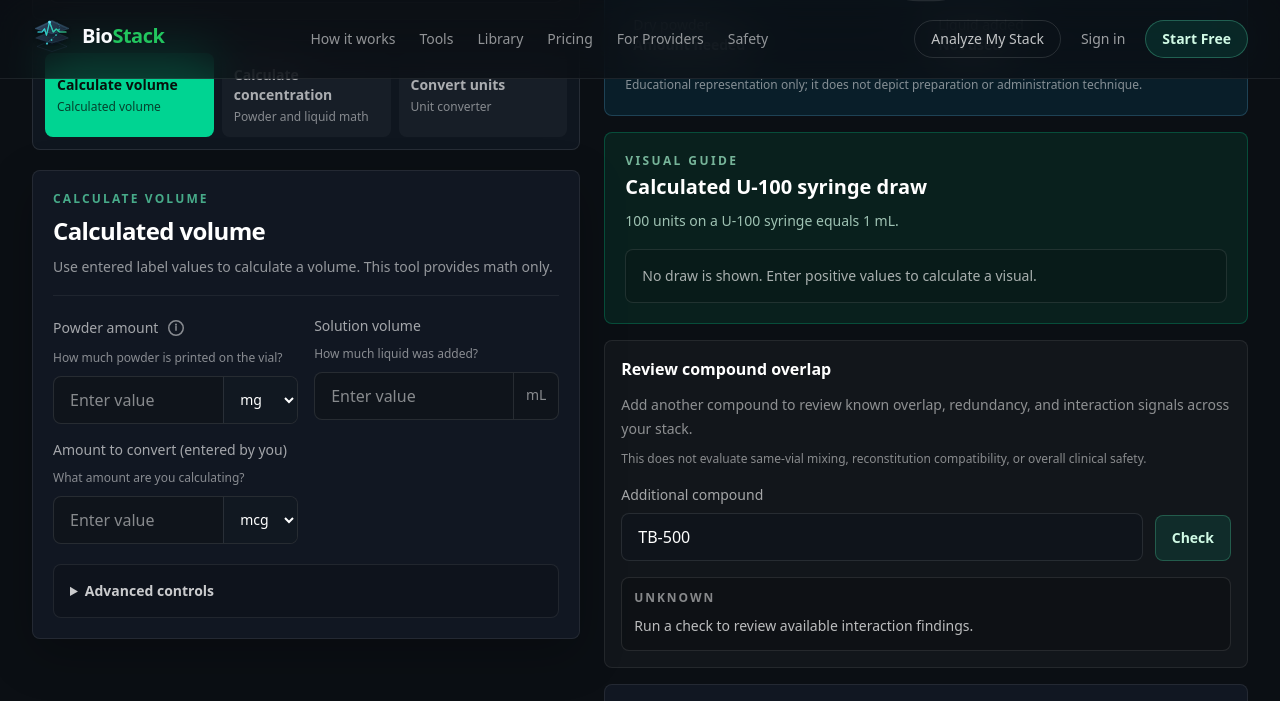
active /tools calculator visuals › keeps the vial, syringe, beginner help, and worded summary visible at 1280px
(page scrolled)
Step 1. Type "5" into the number field named "Powder amount" → (139, 400), box [54,376,223,422]
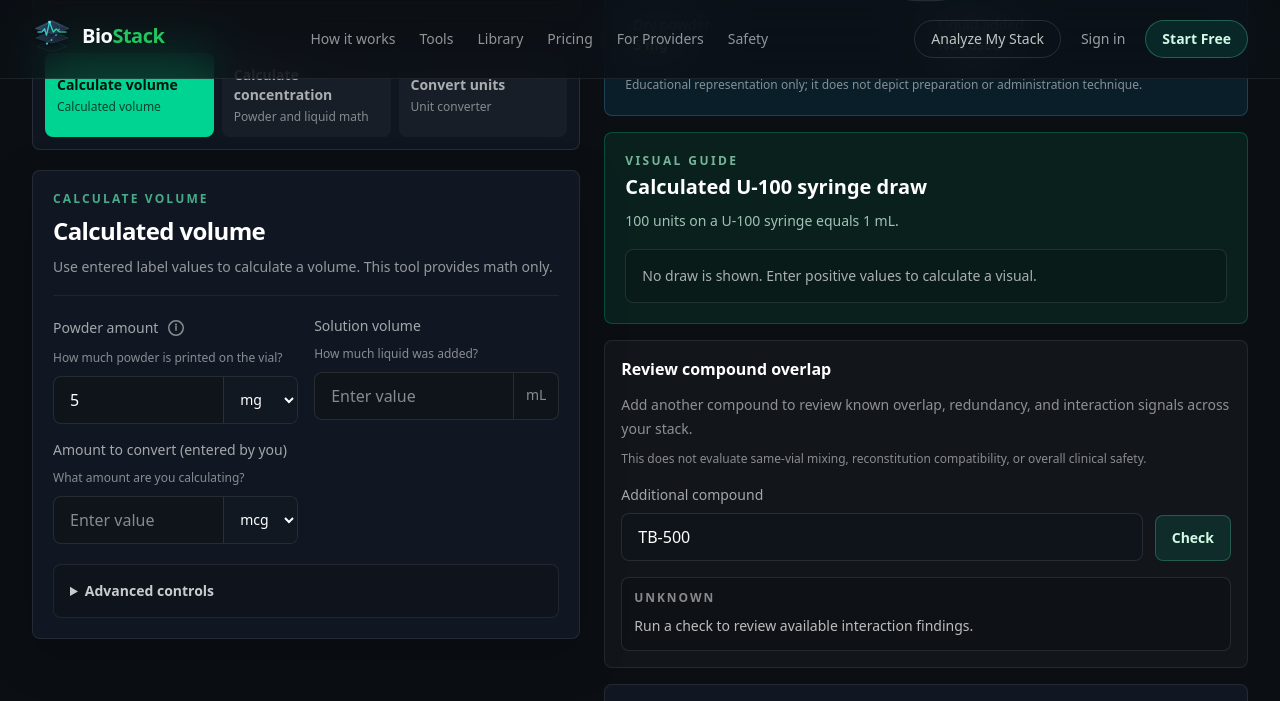
Step 2. Type "2" into the number field labelled "Solution volume How much liquid was added? mL" → (414, 396), box [315,372,513,418]
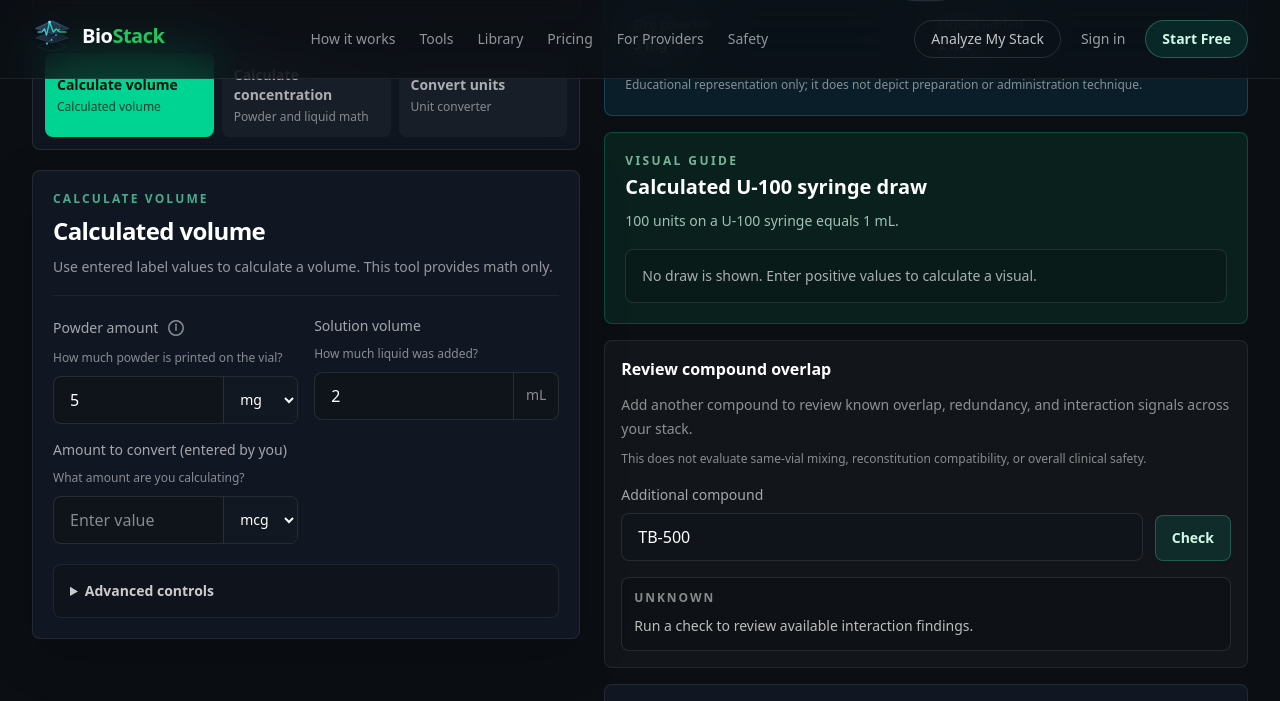
Step 3. Type "250" into the 3rd number field → (139, 520), box [54,496,223,542]
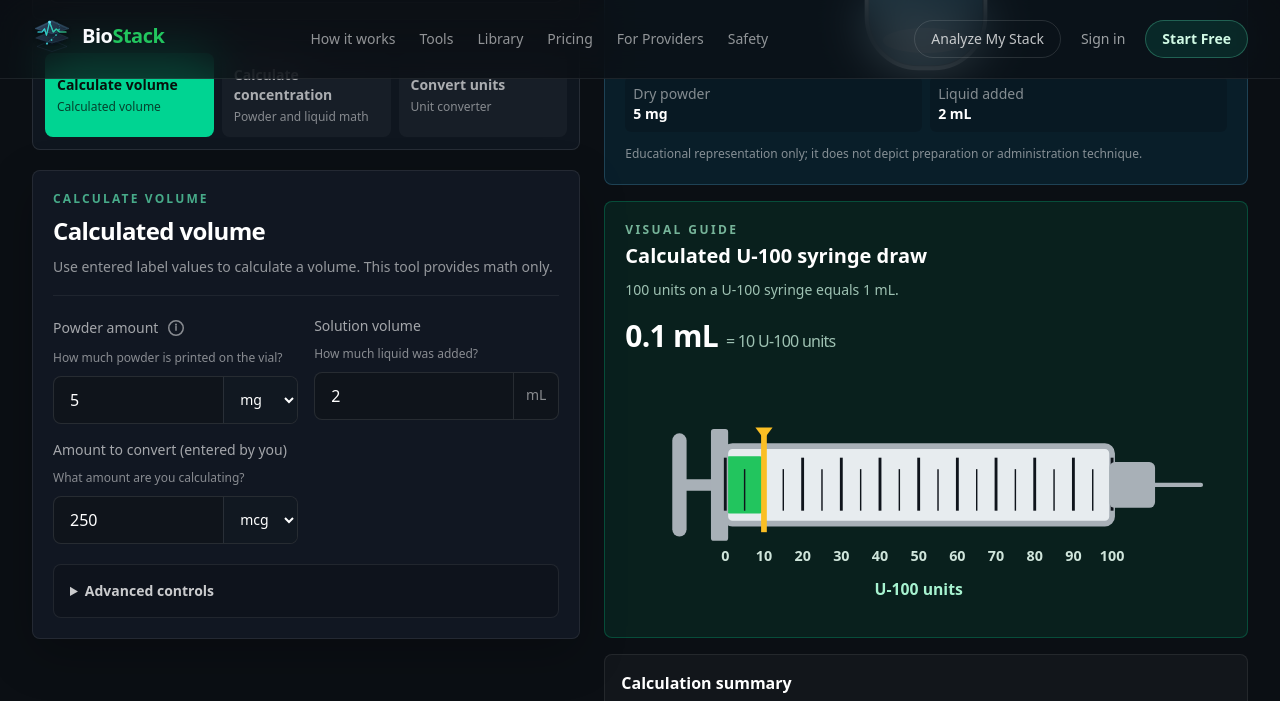
Expected: the element with test id "syringe-draw-visualizer" is shown, [604,201,1248,638]
Expected: the heading "Calculation summary" is shown, [621,672,792,694]
